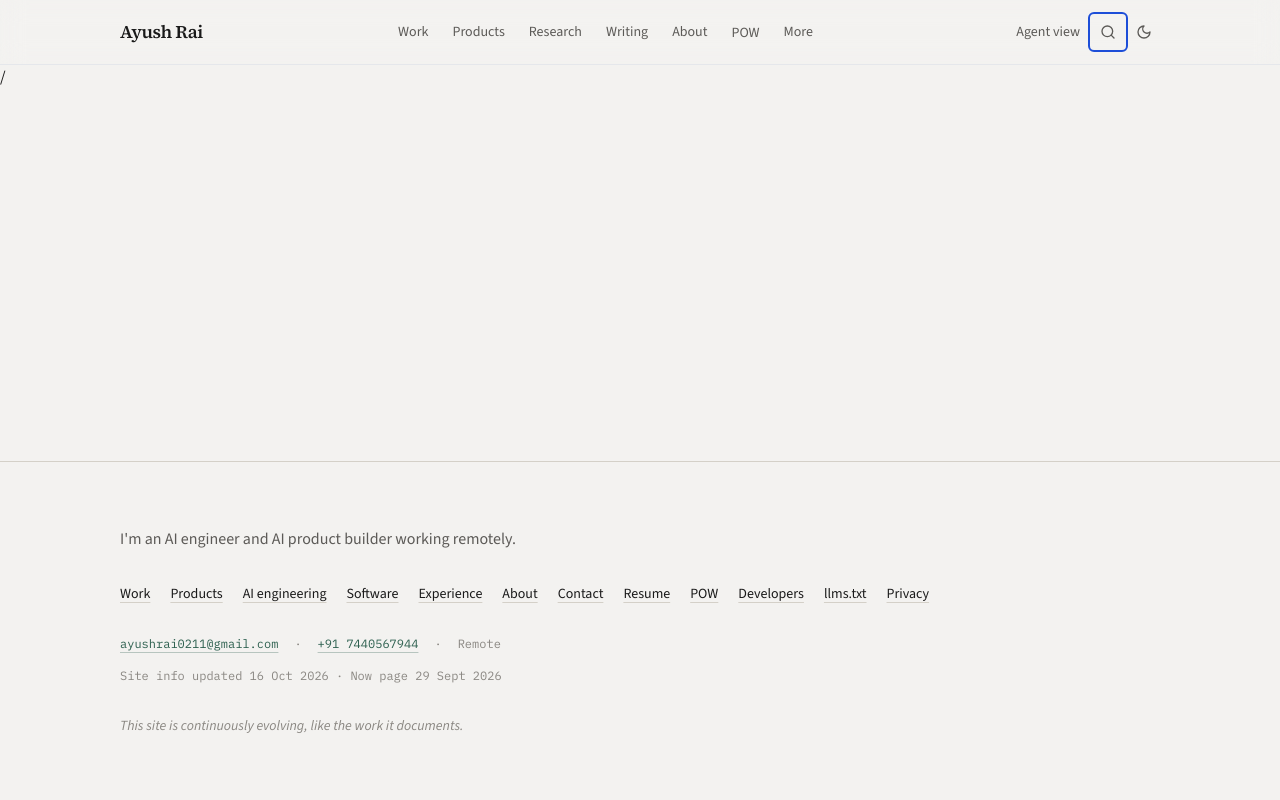
Test: SearchDialog › keeps Tab inside the dialog and returns focus on Escape
Click the button named "Open search" at (1108, 32), box [1092,16,1124,48]
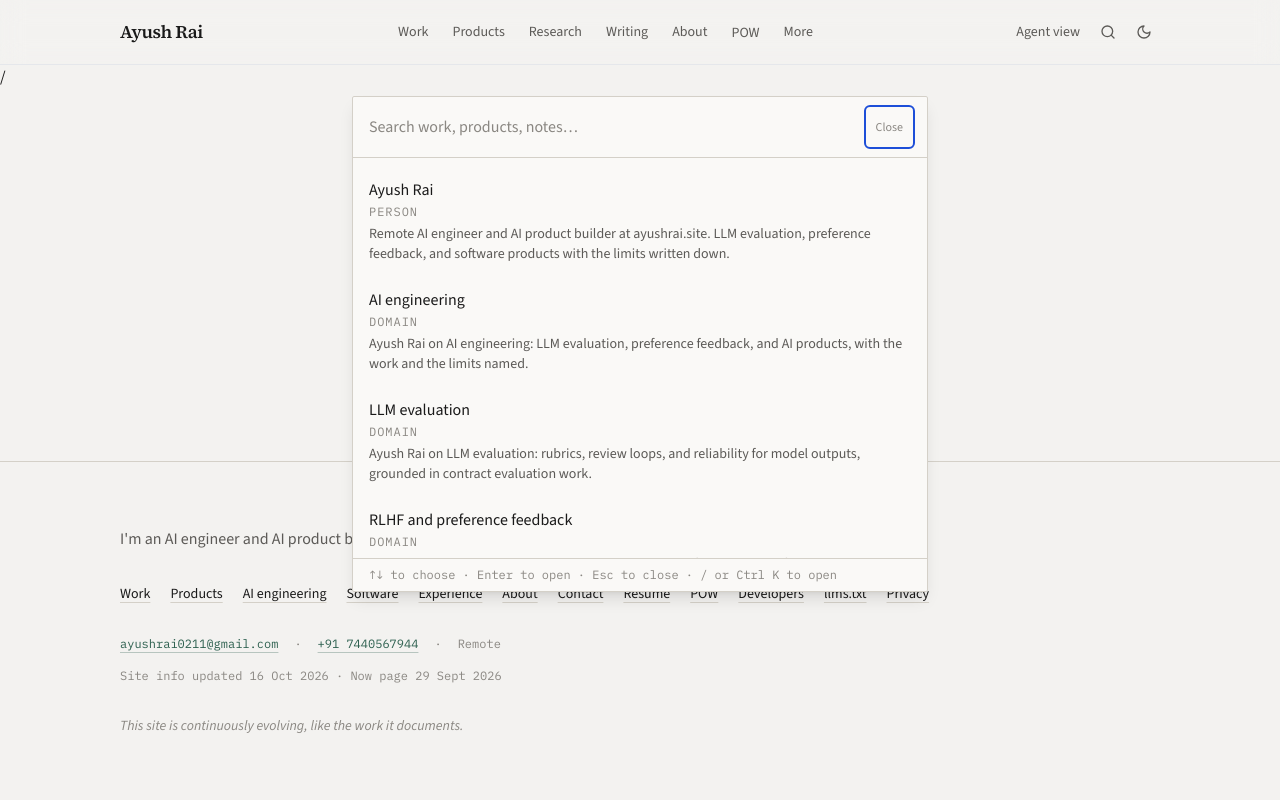
Press Tab in the button "Close", box [868,109,911,145]
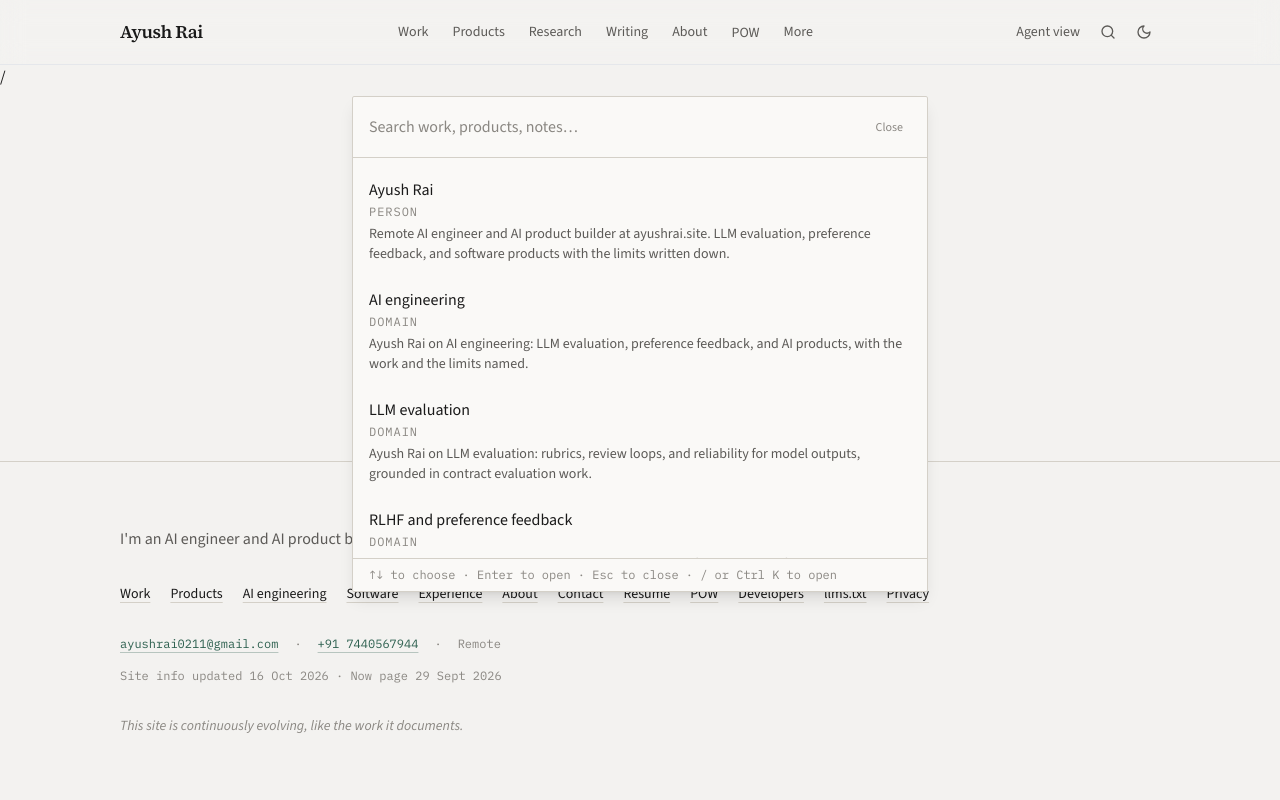
Press Tab in the dropdown labelled "Search", box [369,115,856,139]
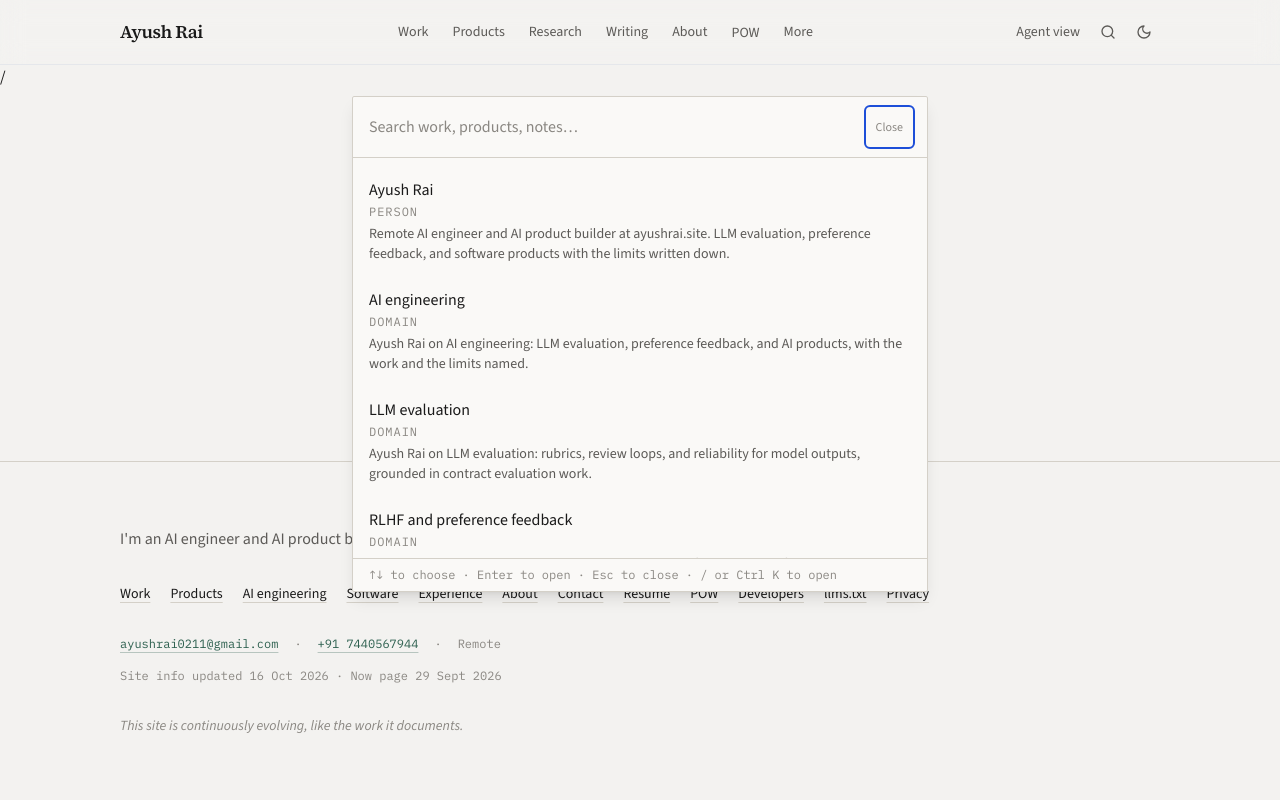
Press Escape
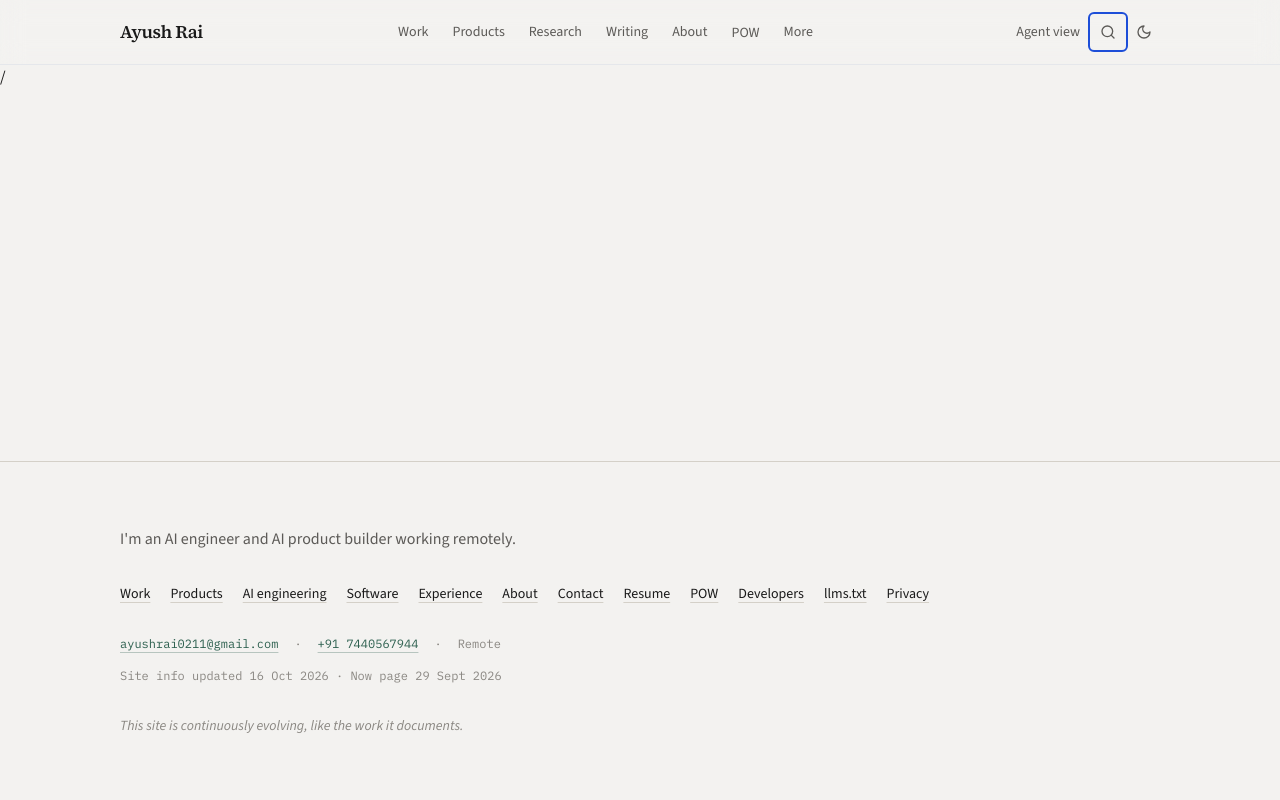
Expected: the dialog is gone
